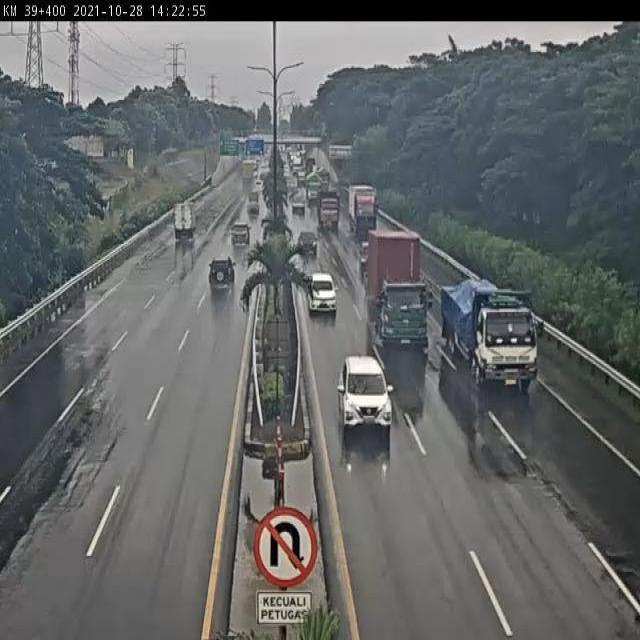big truck: (441, 276, 546, 391), (367, 228, 434, 356), (350, 184, 382, 239), (319, 191, 340, 233)
car: (341, 357, 393, 435), (308, 275, 339, 316), (209, 258, 236, 290), (175, 204, 196, 240), (299, 232, 318, 259), (230, 222, 249, 246), (292, 199, 308, 217)
